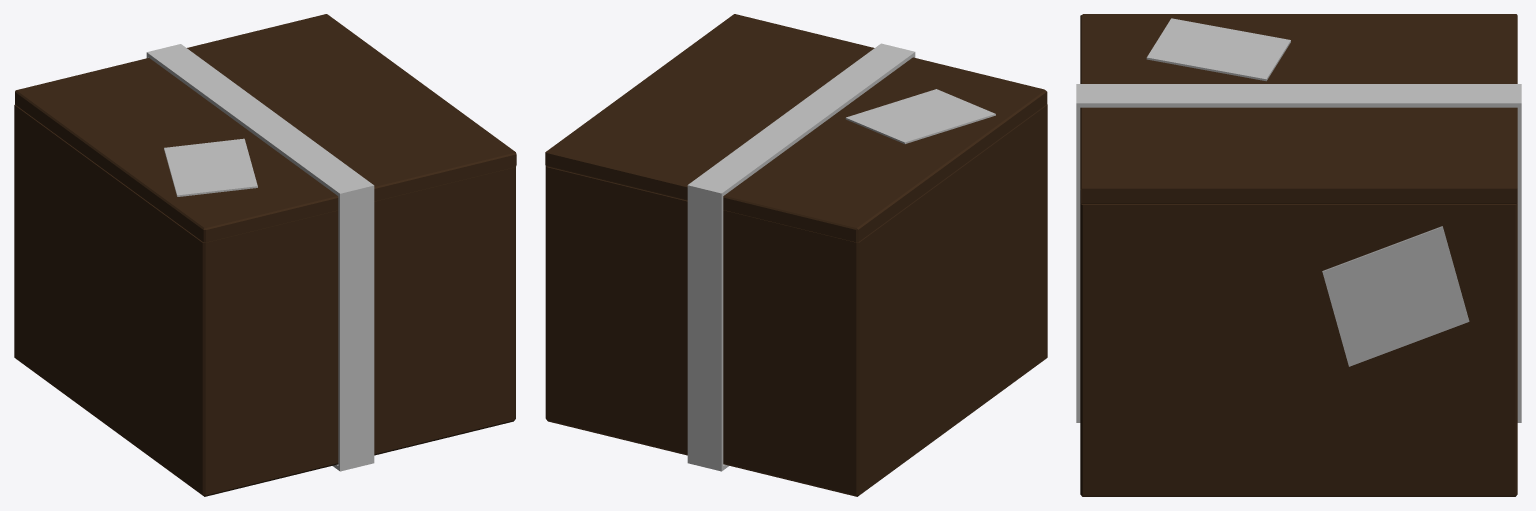
Rendered from Package.fbx.
3 renders of one model, left to right at view 1: azimuth 30°, elevation 25°; view 2: azimuth 150°, elevation 25°; view 3: azimuth 270°, elevation 25°, orthographic. The views are drawn at different scales.
Visible parts, largest first — view 1: Package; view 2: Package; view 3: Package.
Part boxes in pixels (x1,y1,x2,y2): Package: [14, 14, 516, 496]; Package: [545, 14, 1047, 496]; Package: [1076, 14, 1521, 496].
Bounding box in the file's own units: 100 × 84.57 × 107.
